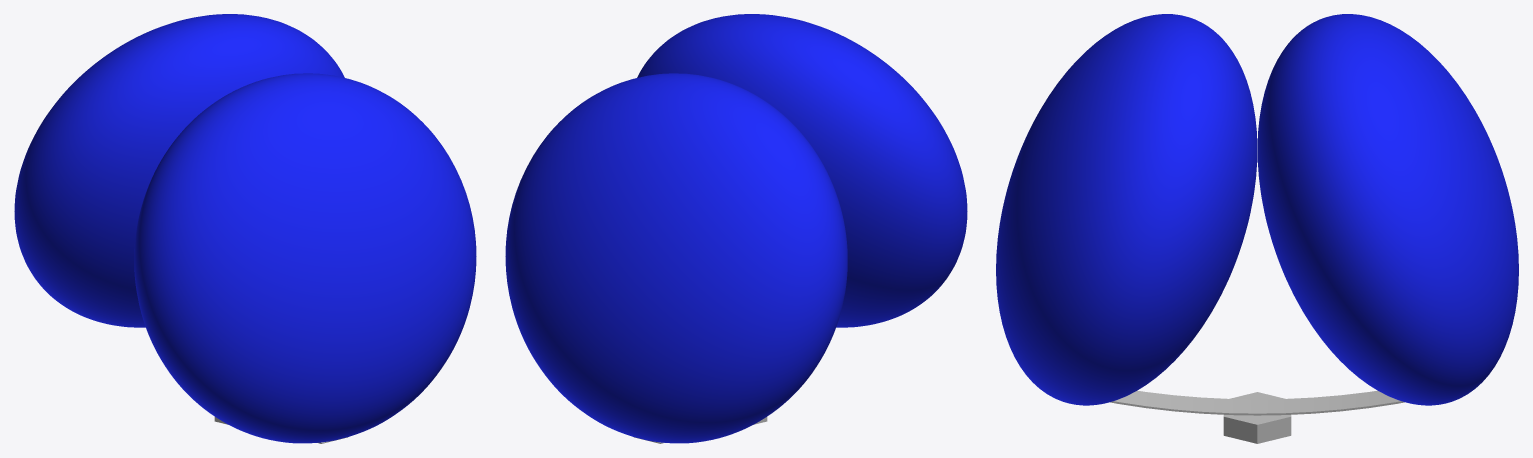
File: stickyBuns.obj
3 views of the same model, side by side, from view 1: azimuth 30°, elevation 25°; view 2: azimuth 150°, elevation 25°; view 3: azimuth 270°, elevation 25° (orthographic). The views are drawn at different scales.
Parts seen in each view (by area): view 1: Solid1; view 2: Solid1; view 3: Solid1.
Part boxes in pixels (x1,y1,x2,y2): Solid1: (14,14,476,443); Solid1: (505,14,967,443); Solid1: (996,14,1518,443).
Bounding box in the file's own units: 23.99 × 25.78 × 31.01.
